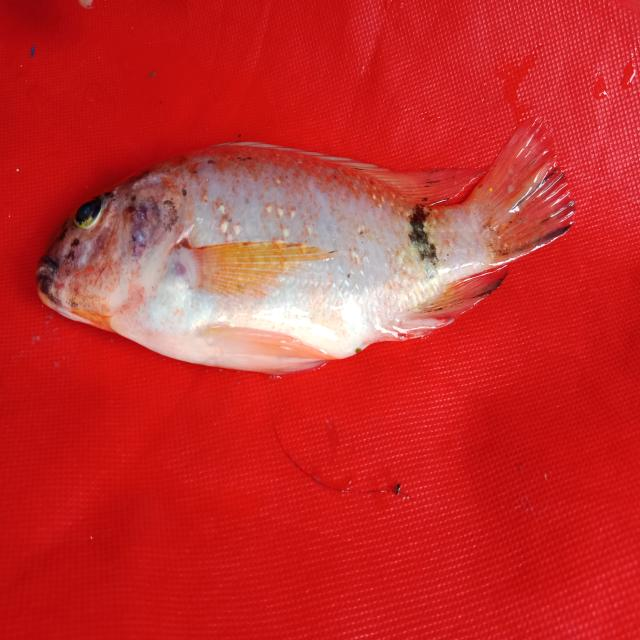ikan: (26, 117, 587, 386)
